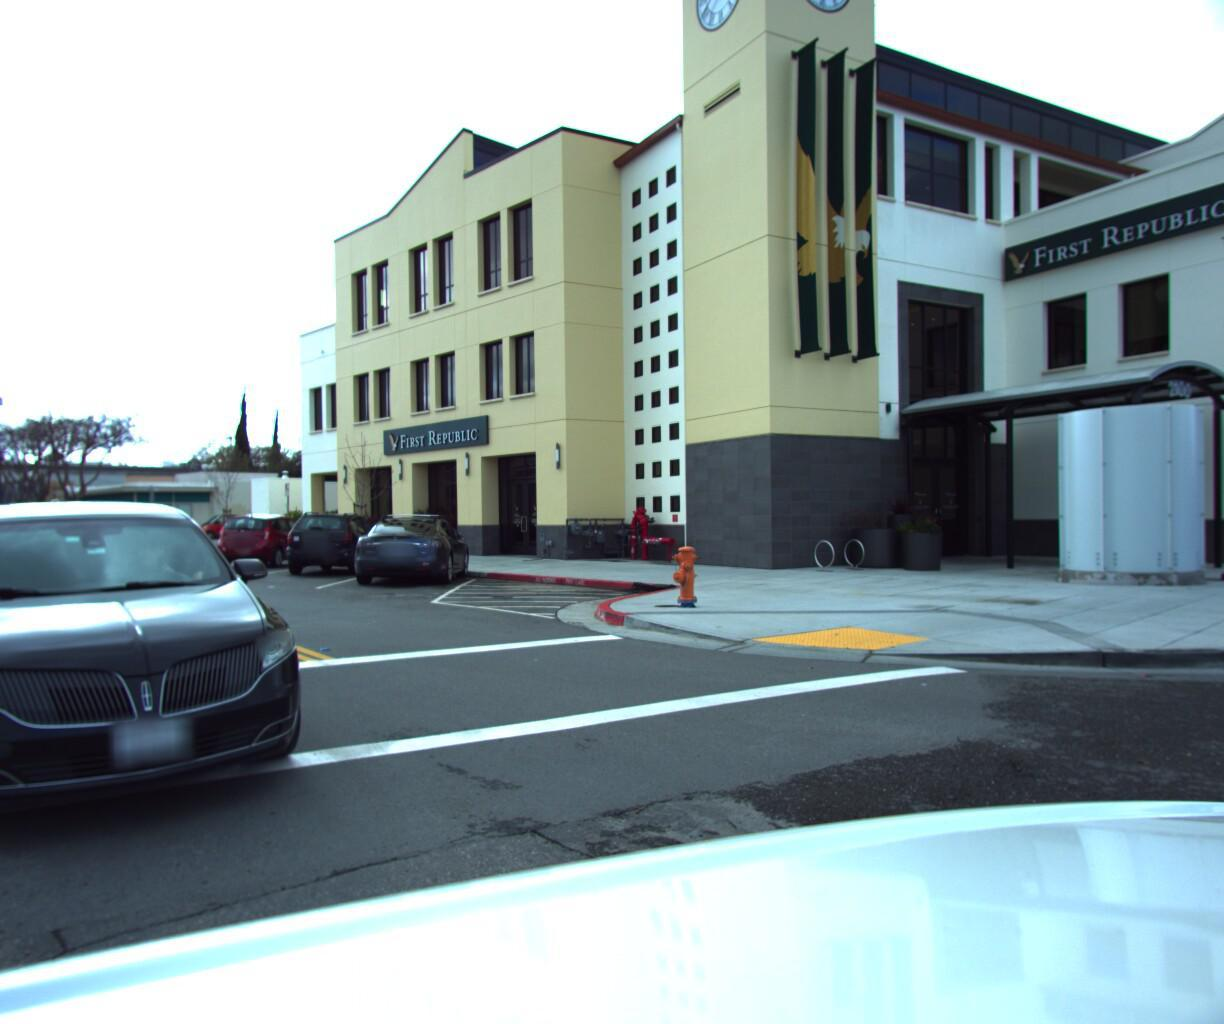car: (0, 488, 359, 914), (340, 506, 475, 592), (274, 508, 396, 578), (204, 513, 327, 571), (191, 514, 276, 540), (0, 515, 63, 547), (0, 515, 15, 542)
